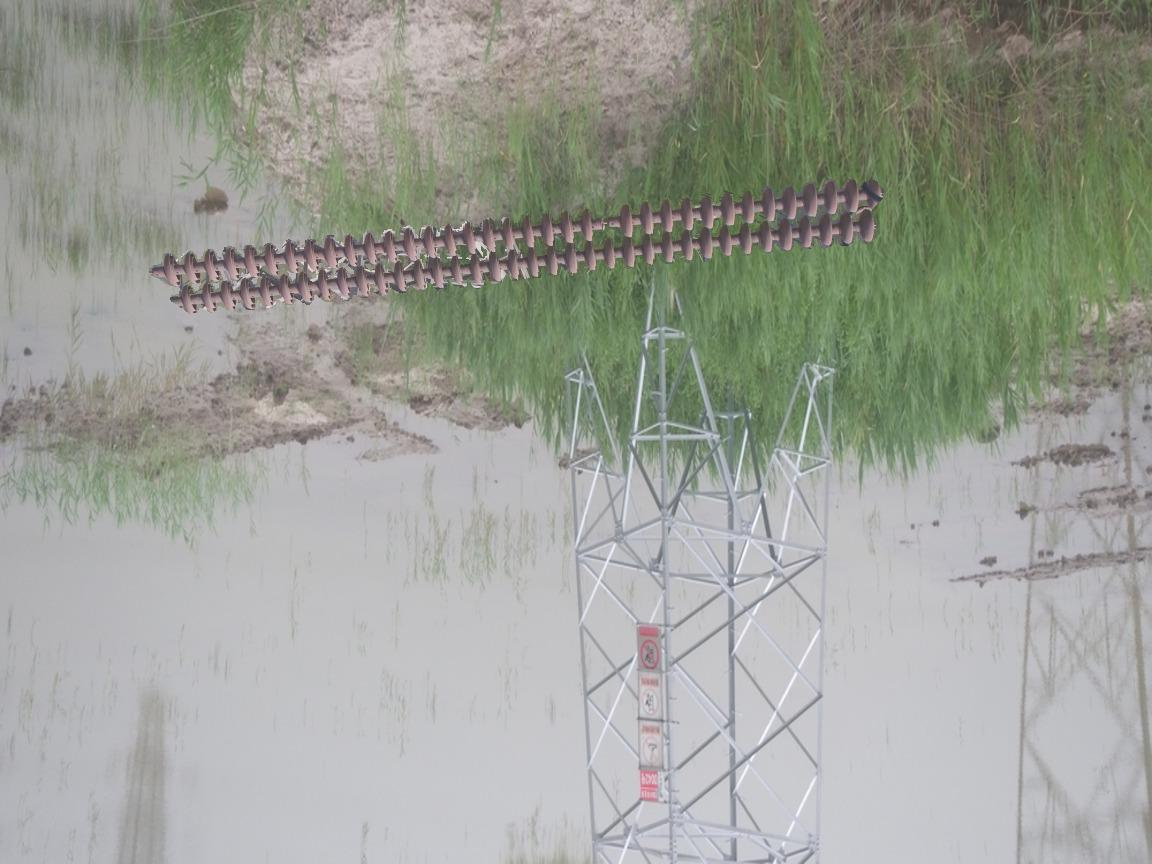insulator: (157, 173, 891, 316)
insulator_stringdrop: (578, 203, 636, 244)
